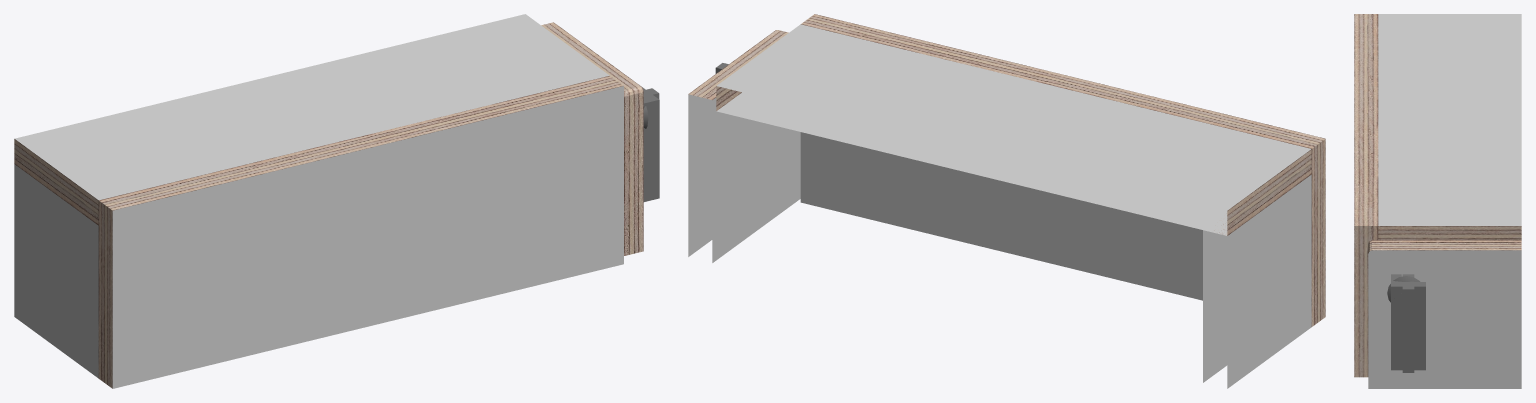
The model's file is Handle Variants.fbx.
3 views of the same model, side by side, from view 1: azimuth 30°, elevation 25°; view 2: azimuth 150°, elevation 25°; view 3: azimuth 270°, elevation 25° (orthographic). The views are drawn at different scales.
Parts seen in each view (by area): view 1: Swing Drawer TL, Swing Drawer TL.002; view 2: Swing Drawer TL; view 3: Swing Drawer TL, Swing Drawer TL.002, Swing Drawer TL.001, Swing Drawer TL.003.
Part boxes in pixels (x1=…): Swing Drawer TL: x1=14, y1=14, x2=648, y2=388; Swing Drawer TL.002: x1=642, y1=87, x2=659, y2=201; Swing Drawer TL: x1=688, y1=14, x2=1325, y2=388; Swing Drawer TL: x1=1354, y1=14, x2=1521, y2=388; Swing Drawer TL.002: x1=1391, y1=274, x2=1425, y2=370; Swing Drawer TL.001: x1=1402, y1=274, x2=1414, y2=372; Swing Drawer TL.003: x1=1392, y1=293, x2=1415, y2=314.
Bounding box in the file's own units: 44.98 × 13.33 × 13.33.
